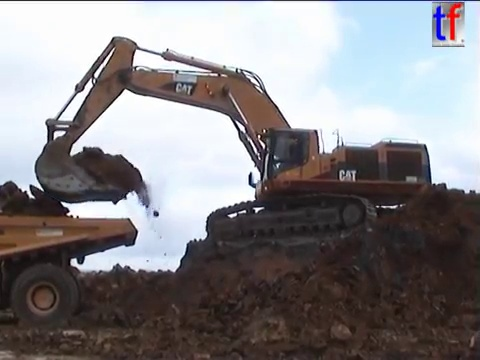excavator: (31, 33, 438, 252)
truck: (1, 209, 142, 335)
